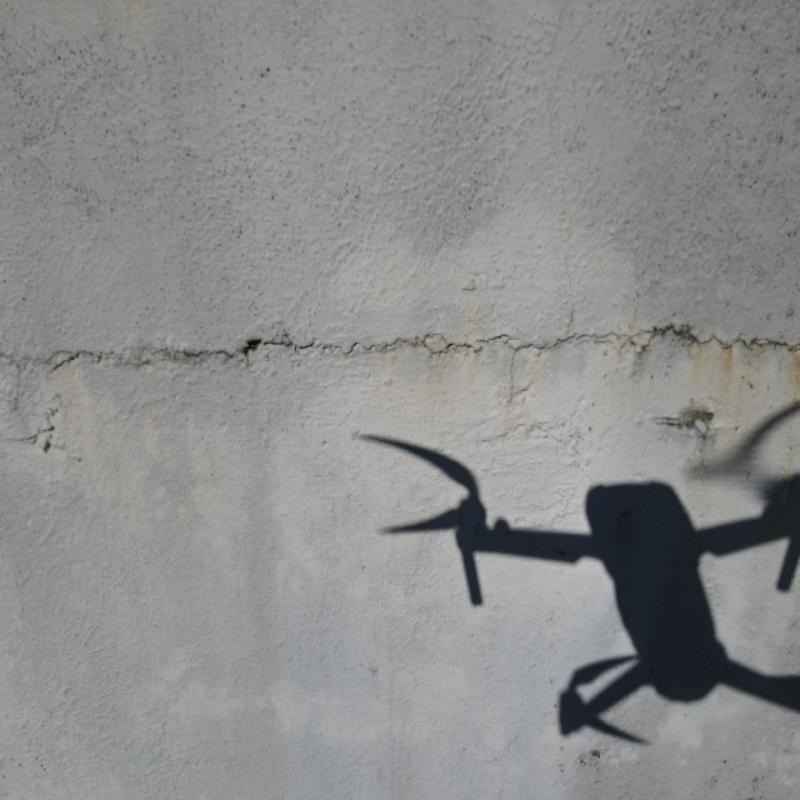crack: (0, 319, 799, 378)
